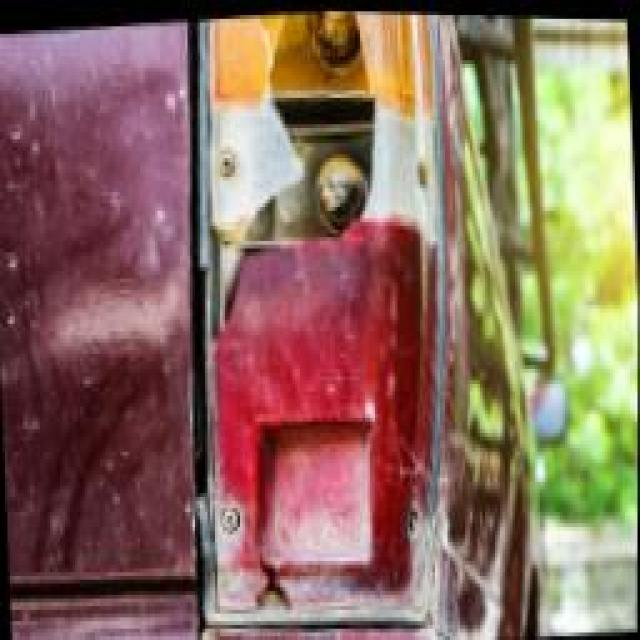Light: (192, 4, 432, 631)
